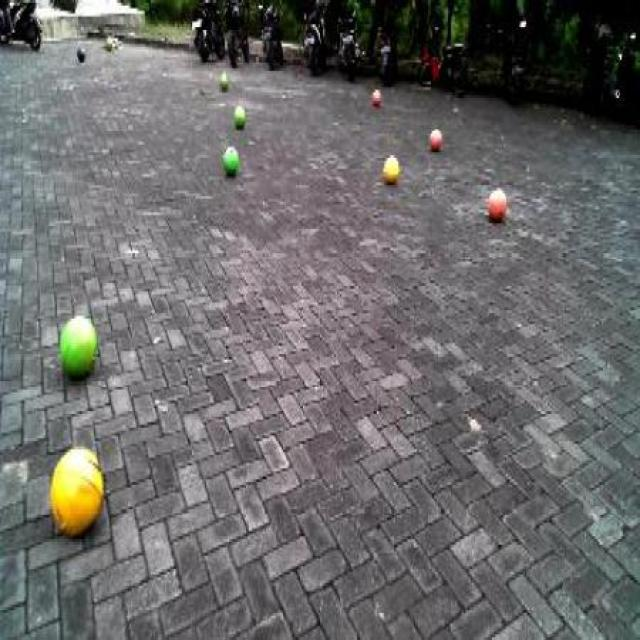buoy: (47, 441, 107, 539), (55, 311, 99, 383), (487, 182, 507, 218), (221, 143, 241, 178), (381, 152, 401, 184)
